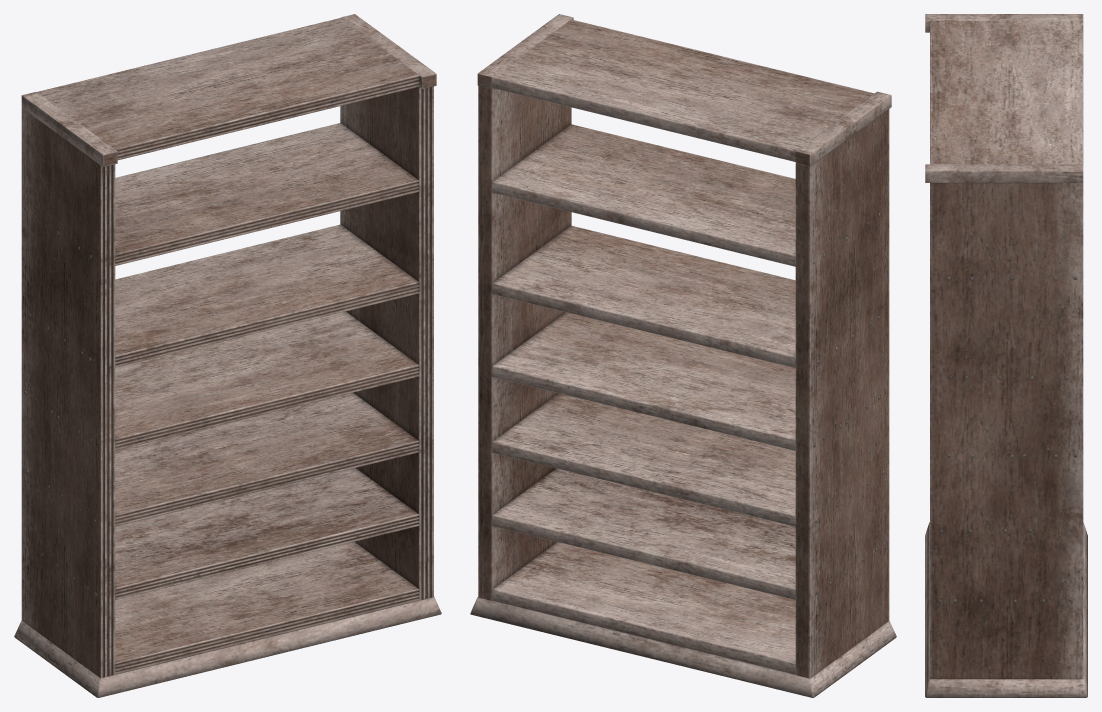
File: wooden_bookshelf_worn_lod1.glb
3 views of the same model, side by side, from view 1: azimuth 30°, elevation 25°; view 2: azimuth 150°, elevation 25°; view 3: azimuth 270°, elevation 25° (orthographic). The views are drawn at different scales.
Parts seen in each view (by area): view 1: wooden_bookshelf_worn; view 2: wooden_bookshelf_worn; view 3: wooden_bookshelf_worn.
Boxes of the visible parts, x1=… form: wooden_bookshelf_worn: x1=14, y1=14, x2=441, y2=697; wooden_bookshelf_worn: x1=470, y1=14, x2=896, y2=697; wooden_bookshelf_worn: x1=925, y1=14, x2=1087, y2=697.
Bounding box in the file's own units: 1.37 × 2.06 × 0.5813.
1 material, 1 textured.
